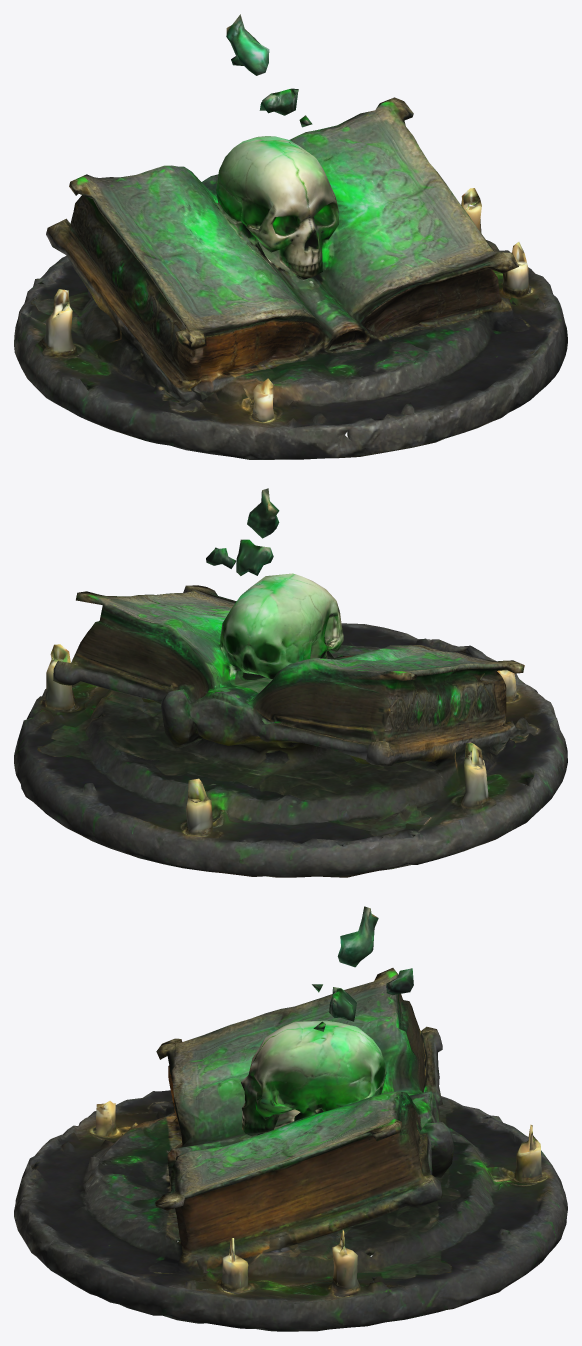
Rendered from CodexofEternalShadowstexture.fbx.
3 views of the same model, one above another, from view 1: azimuth 30°, elevation 25°; view 2: azimuth 150°, elevation 25°; view 3: azimuth 270°, elevation 25° (orthographic).
Parts seen in each view (by area): view 1: Mesh_0.001; view 2: Mesh_0.001; view 3: Mesh_0.001.
Part boxes in pixels (box(x1,y1,x2,y2)): Mesh_0.001: box(14, 14, 567, 459); Mesh_0.001: box(14, 488, 567, 877); Mesh_0.001: box(14, 906, 567, 1331).
Size of the model in its own units: 200 by 121 by 200.
Materials: 1 (1 with a texture image).
